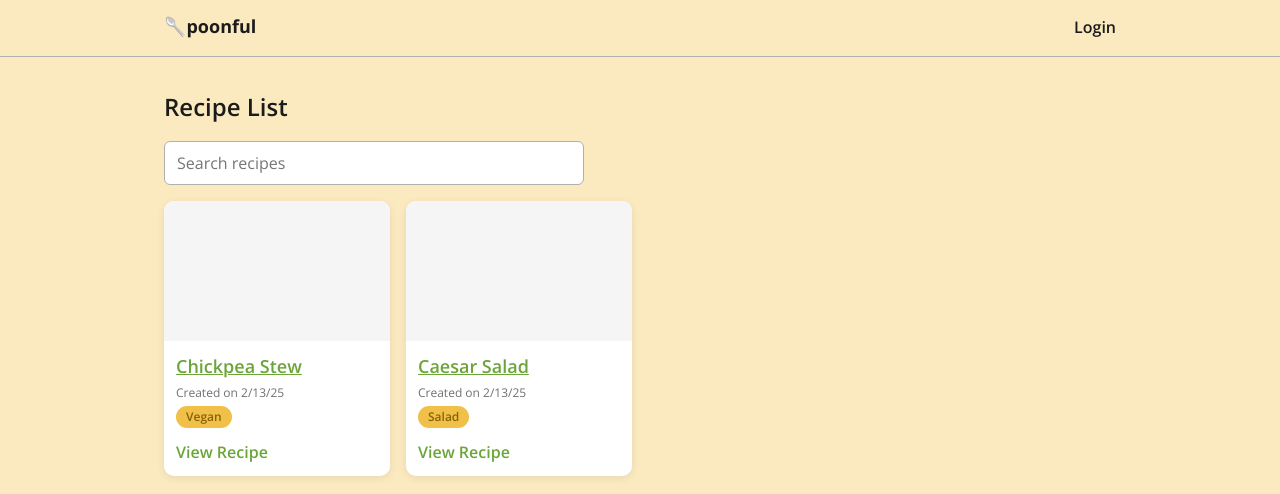
Test: RecipeList › filters recipes by search term across title, tags, and ingredients
Expected: the heading "Chickpea Stew" is shown, [176,354,302,378]
Type "romaine" into the search field labelled "Search recipes" at (374, 163), box [164,141,584,185]
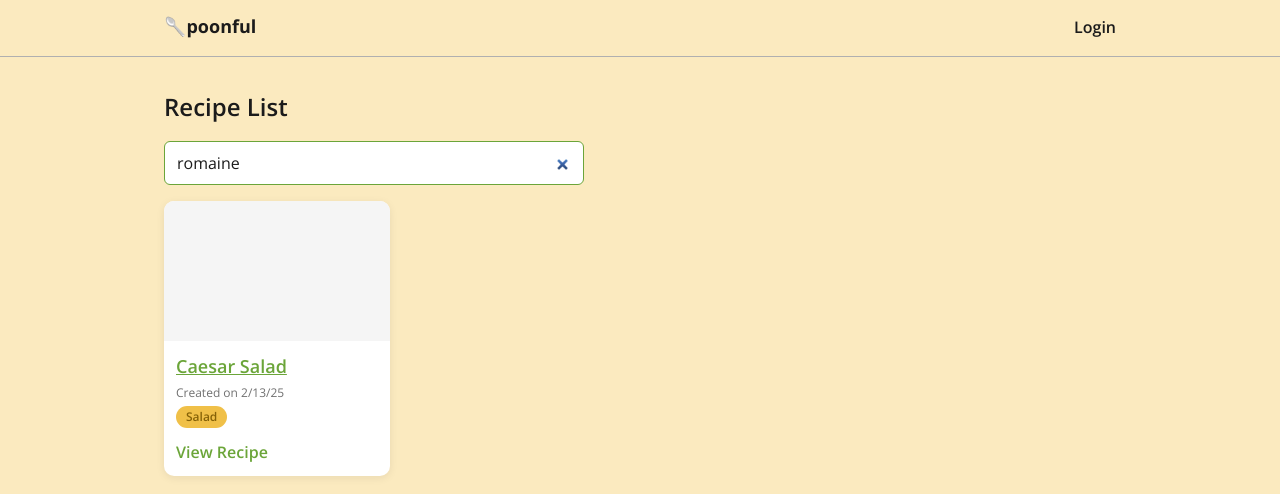
Expected: the heading "Caesar Salad" is shown, [176,354,287,378]
Result: the link "Chickpea Stew" is gone
